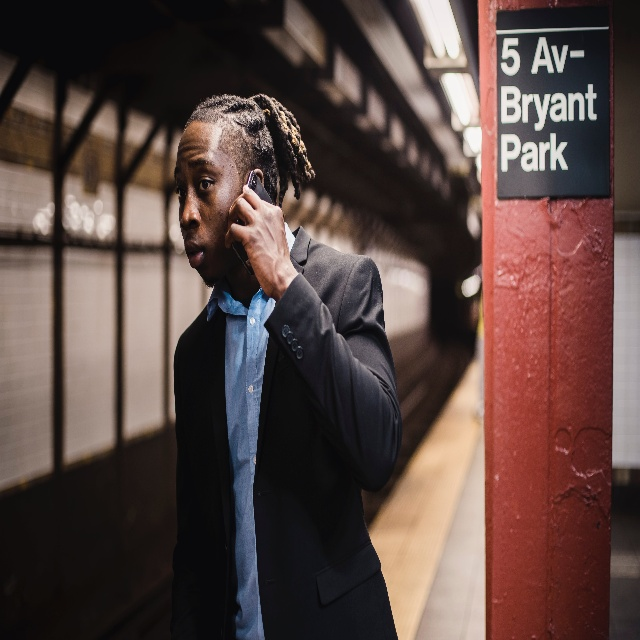Sin_guantes: (224, 184, 293, 295)
